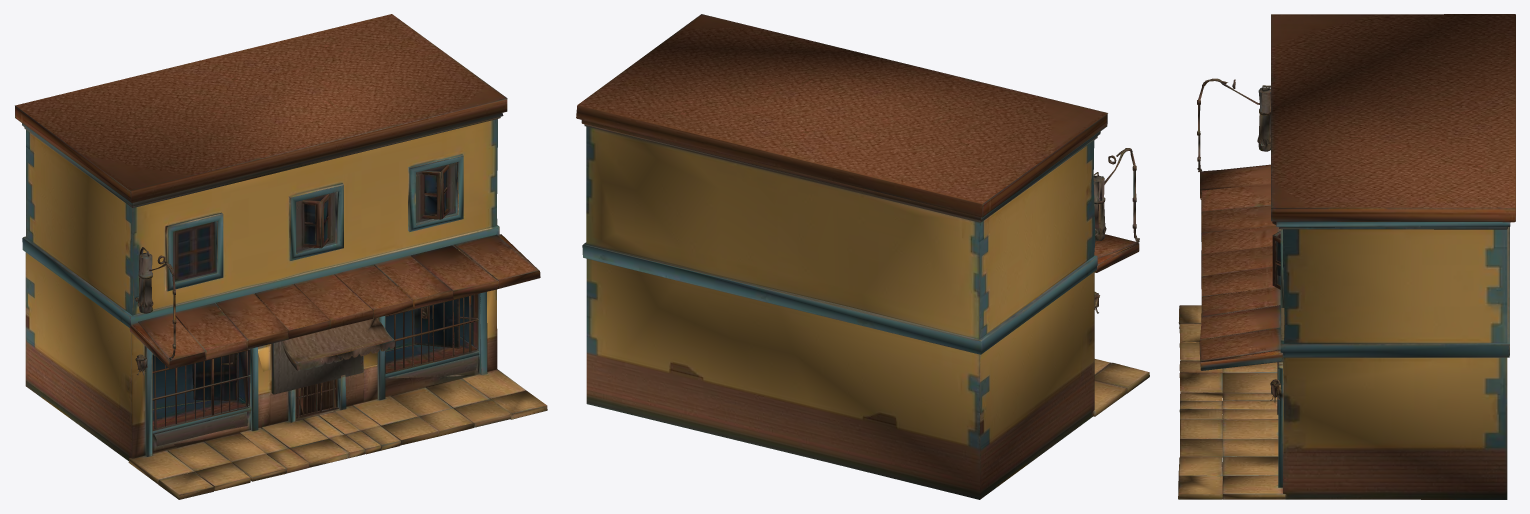
3 renders of one model, left to right at view 1: azimuth 30°, elevation 25°; view 2: azimuth 150°, elevation 25°; view 3: azimuth 270°, elevation 25°, orthographic. The views are drawn at different scales.
Bounding box in the file's own units: 0.9541 × 0.6738 × 0.7002.
1 material, 1 textured.
